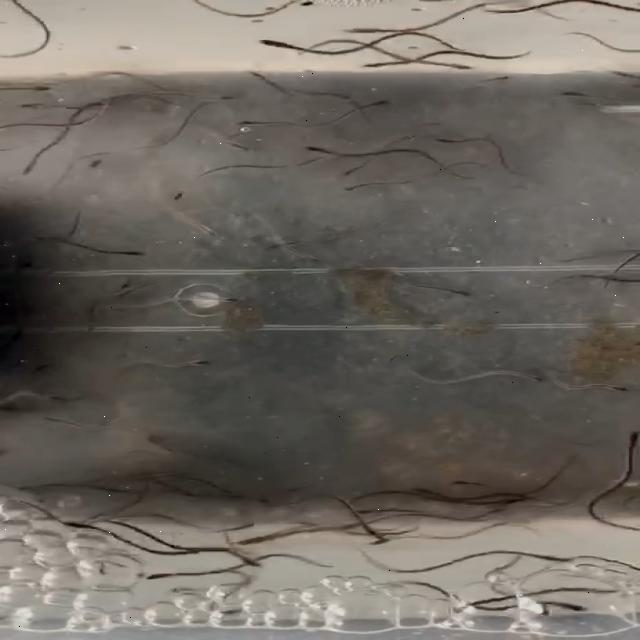active_glass_eel: (205, 90, 251, 107), (226, 551, 268, 569), (135, 568, 178, 584), (428, 58, 476, 72), (204, 290, 244, 306), (288, 143, 336, 156), (258, 38, 302, 52), (51, 518, 92, 533), (82, 155, 114, 174), (360, 524, 390, 544), (344, 22, 390, 35), (428, 282, 470, 296), (11, 82, 56, 95), (235, 534, 275, 548), (235, 117, 272, 132), (8, 98, 47, 112), (220, 136, 247, 156), (562, 86, 600, 100), (533, 553, 571, 567), (550, 602, 594, 614), (432, 130, 469, 144), (509, 370, 546, 384), (484, 74, 516, 90), (562, 98, 604, 110), (184, 354, 219, 368), (534, 598, 556, 620), (338, 180, 378, 192), (616, 430, 640, 450), (110, 245, 146, 258), (442, 477, 478, 490), (336, 162, 363, 178), (353, 63, 395, 73), (197, 222, 223, 238), (360, 100, 406, 109), (167, 184, 190, 202), (341, 506, 381, 516), (500, 494, 530, 507), (602, 383, 640, 393), (18, 160, 40, 174), (113, 274, 130, 292), (42, 416, 72, 426)
